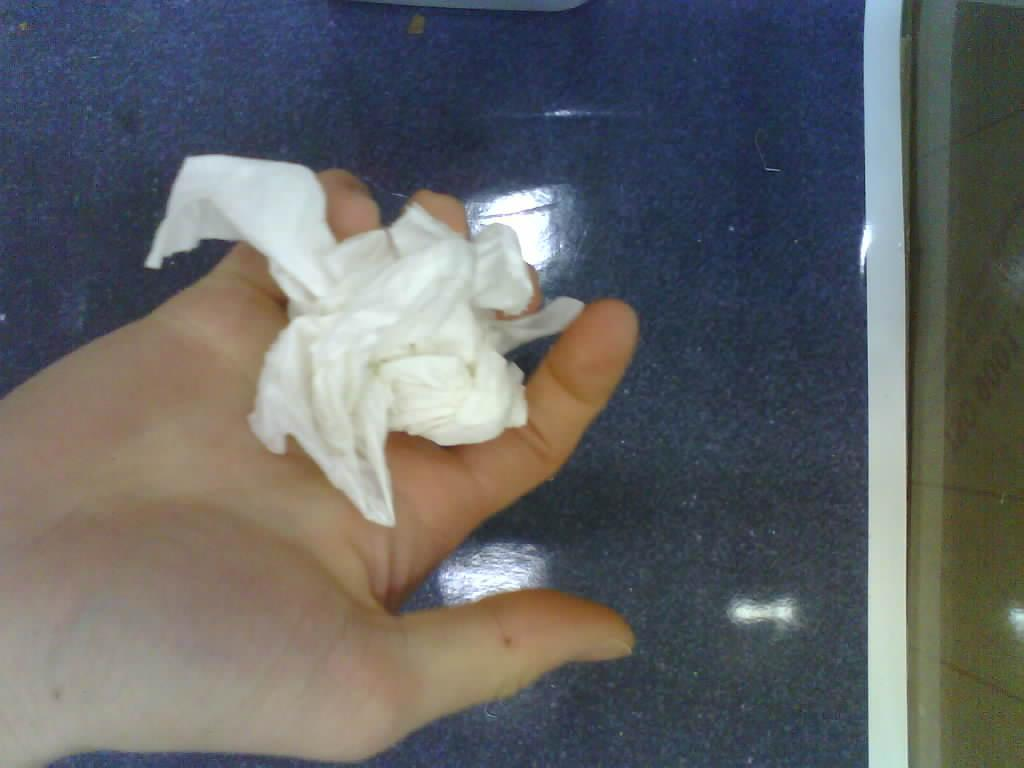paper: (146, 156, 582, 526)
